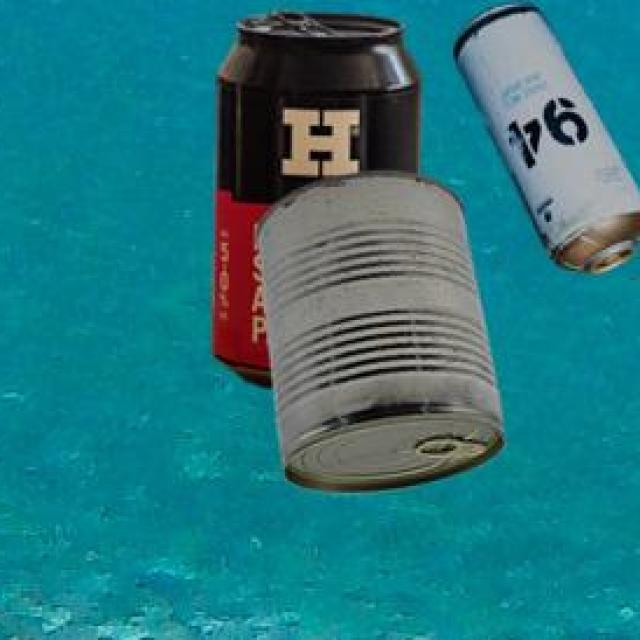logam: (253, 167, 501, 489), (209, 6, 417, 384), (454, 0, 640, 270)
